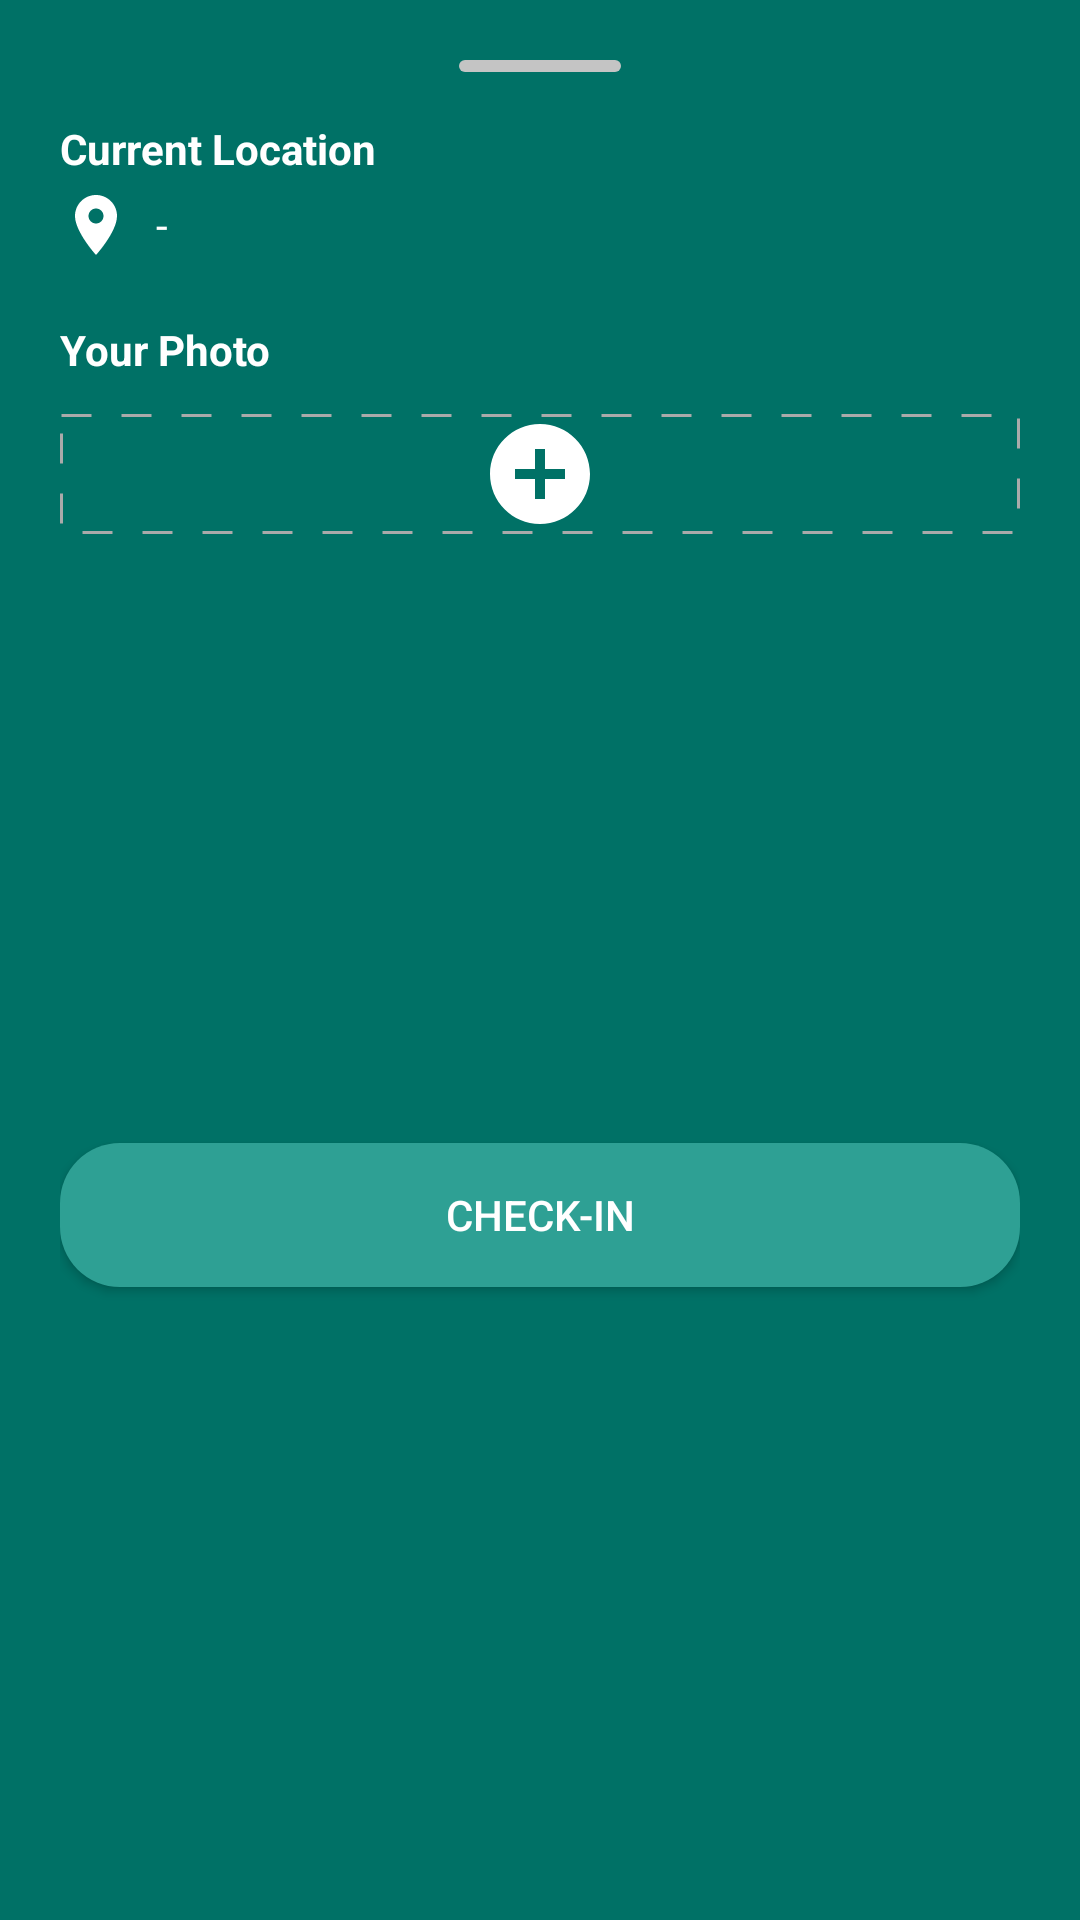

Point at icon controls on the screen. Image size 1080w x 1920h, points as (x,y).
location on: (96,225)
